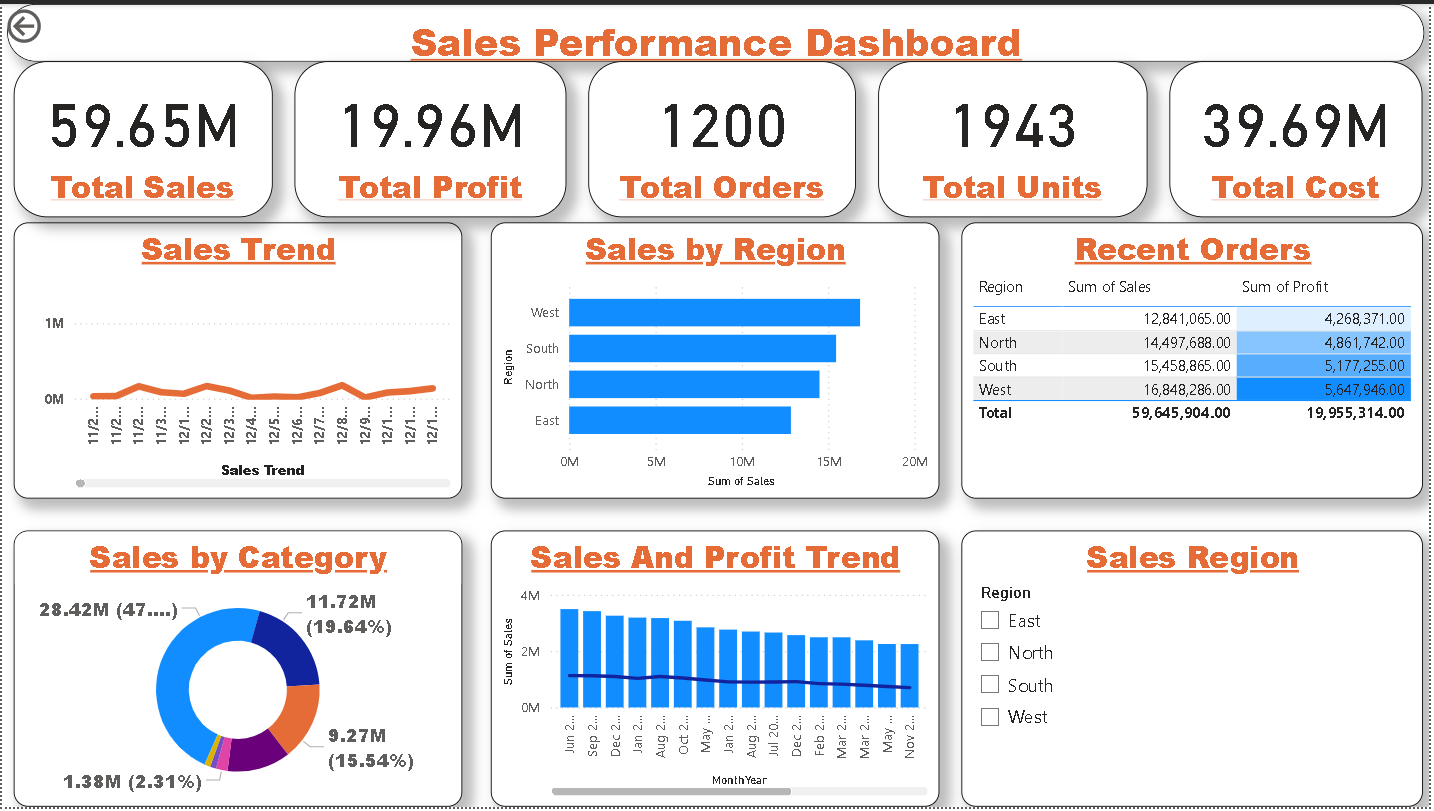

The dashboard page shown, as its layout file describes it:
{"tool":"powerbi","page":{"name":"Page 2","canvas":[1280,720],"ordinal":0},"visuals":[{"type":"textbox","title":"Sales Performance Dashboard","box":[4.3,0,1270.5,51.7],"z":0},{"type":"card","fields":{"Values":["Date.Total Sales"]},"box":[10,51.7,232,140],"z":1000},{"type":"card","fields":{"Values":["Date.Total Profit"]},"box":[261.8,51.7,244,140],"z":2000},{"type":"card","fields":{"Values":["Date.Total Orders"]},"box":[525.5,51.7,240,140],"z":3000},{"type":"card","fields":{"Values":["Date.Total Units"]},"box":[785.2,51.7,241.7,140],"z":4000},{"type":"card","fields":{"Values":["Date.Total Cost"]},"box":[1046.7,51.7,226.7,140],"z":5000},{"type":"lineChart","title":"Sales Trend","fields":{"Category":["SalesData.OrderDate"],"Y":["Sum(SalesData.Sales)"]},"box":[10,196,402,248],"z":6000},{"type":"clusteredBarChart","title":"Sales by Region","fields":{"Category":["SalesData.Region"],"Y":["Sum(SalesData.Sales)"]},"box":[438,196,402,248],"z":7000},{"type":"donutChart","title":"Sales by Category","fields":{"Category":["SalesData.Category"],"Y":["Sum(SalesData.Sales)"]},"box":[10,472,402,248],"z":8000},{"type":"tableEx","title":"Recent Orders","fields":{"Values":["SalesData.Region","Sum(SalesData.Sales)","Sum(SalesData.Profit)"]},"box":[860,196,414,248],"z":9000},{"type":"actionButton","box":[0,0,100,40],"z":10000},{"type":"slicer","title":"Sales Region","fields":{"Values":["SalesData.Region"]},"box":[860,472,414,248],"z":11000},{"type":"lineClusteredColumnComboChart","title":"Sales And Profit Trend","fields":{"Category":["SalesData.MonthYear"],"Y2":["Sum(SalesData.Profit)"],"Y":["Sum(SalesData.Sales)"]},"box":[438,472,402,248],"z":12000}]}

Visuals, with their boxes in screenshot pixels (x1, y1, x2, y2), scaled from the page's 1280x720 canvas onto the 1434x811 screenshot:
"Sales Performance Dashboard" textbox: [x1=5, y1=0, x2=1428, y2=58]
card - Date.Total Sales: [x1=11, y1=58, x2=271, y2=216]
card - Date.Total Profit: [x1=293, y1=58, x2=567, y2=216]
card - Date.Total Orders: [x1=589, y1=58, x2=858, y2=216]
card - Date.Total Units: [x1=880, y1=58, x2=1150, y2=216]
card - Date.Total Cost: [x1=1173, y1=58, x2=1427, y2=216]
"Sales Trend" lineChart: [x1=11, y1=221, x2=462, y2=500]
"Sales by Region" clusteredBarChart: [x1=491, y1=221, x2=941, y2=500]
"Sales by Category" donutChart: [x1=11, y1=532, x2=462, y2=810]
"Recent Orders" tableEx: [x1=963, y1=221, x2=1427, y2=500]
actionButton: [x1=0, y1=0, x2=112, y2=45]
"Sales Region" slicer: [x1=963, y1=532, x2=1427, y2=810]
"Sales And Profit Trend" lineClusteredColumnComboChart: [x1=491, y1=532, x2=941, y2=810]
